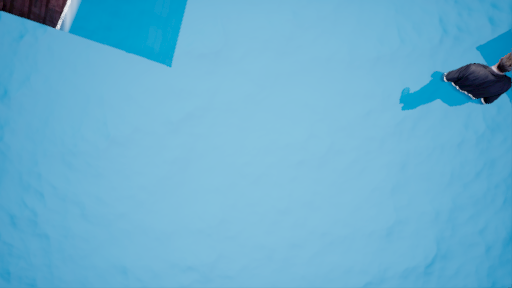person: (398, 53, 512, 121)
